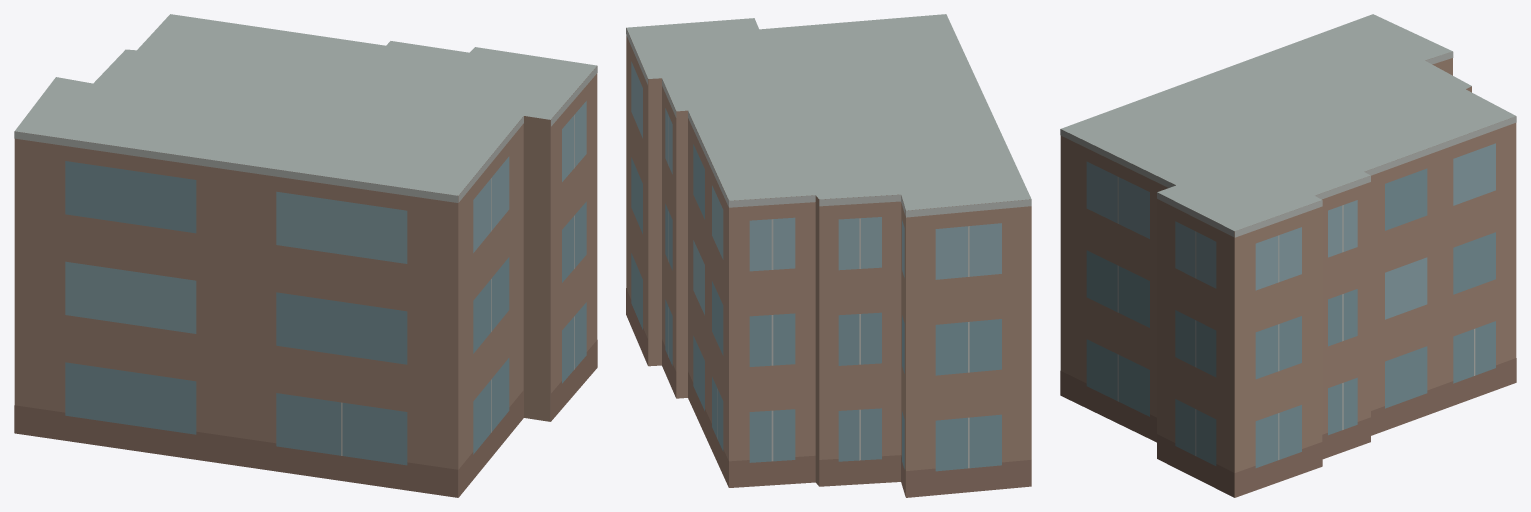
Rendered from survey-upis-32512388.glb.
3 renders of one model, left to right at view 1: azimuth 30°, elevation 25°; view 2: azimuth 150°, elevation 25°; view 3: azimuth 270°, elevation 25°, orthographic. The views are drawn at different scales.
Visible parts, largest first — view 1: survey-upis-32512388.tmp; view 2: survey-upis-32512388.tmp; view 3: survey-upis-32512388.tmp.
Boxes of the visible parts, box(x1,y1,x2,y2) form: survey-upis-32512388.tmp: box(14, 14, 597, 497); survey-upis-32512388.tmp: box(626, 14, 1031, 497); survey-upis-32512388.tmp: box(1060, 14, 1516, 497).
Bounding box in the file's own units: 17.67 × 10.1 × 15.67.
